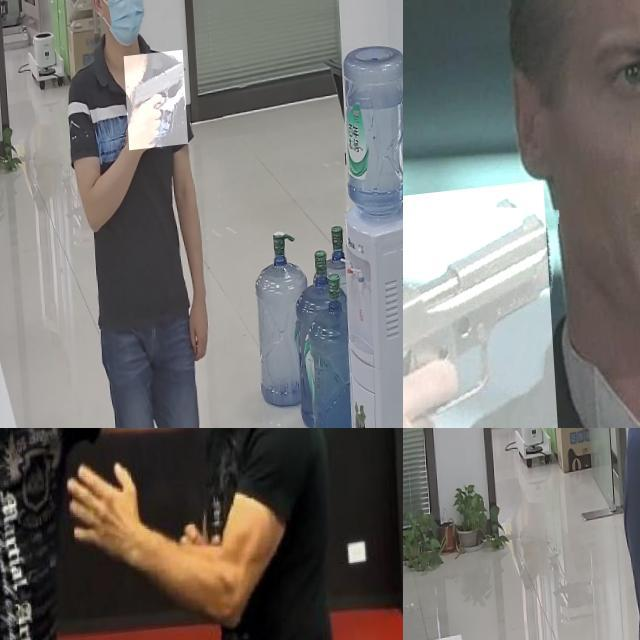gun-knife-thesis - v11 Yolov5 augmented: (403, 187, 557, 428), (122, 57, 185, 156)
